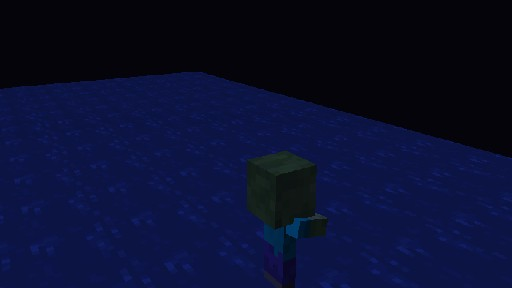zombie: (246, 149, 328, 288)
